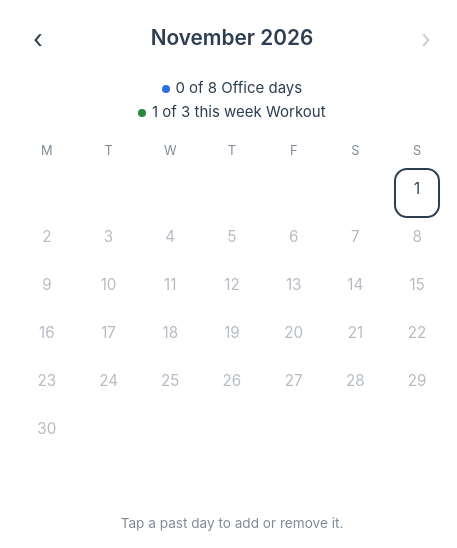
Test: CalendarView › a week that starts in the previous month › shows a plain day count for a past month
This screenshot has width=457, height=548.
Click the button named "Previous month". click: click(38, 38)
box: [16, 16, 60, 60]
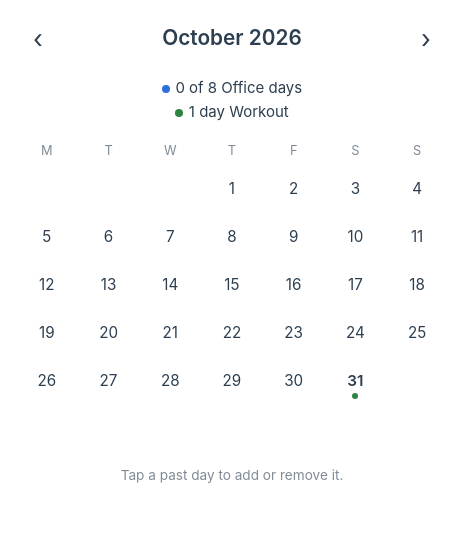
Expected: the text "1 day Workout" is shown, [175, 102, 289, 121]
Expected: the text "this week" is gone
